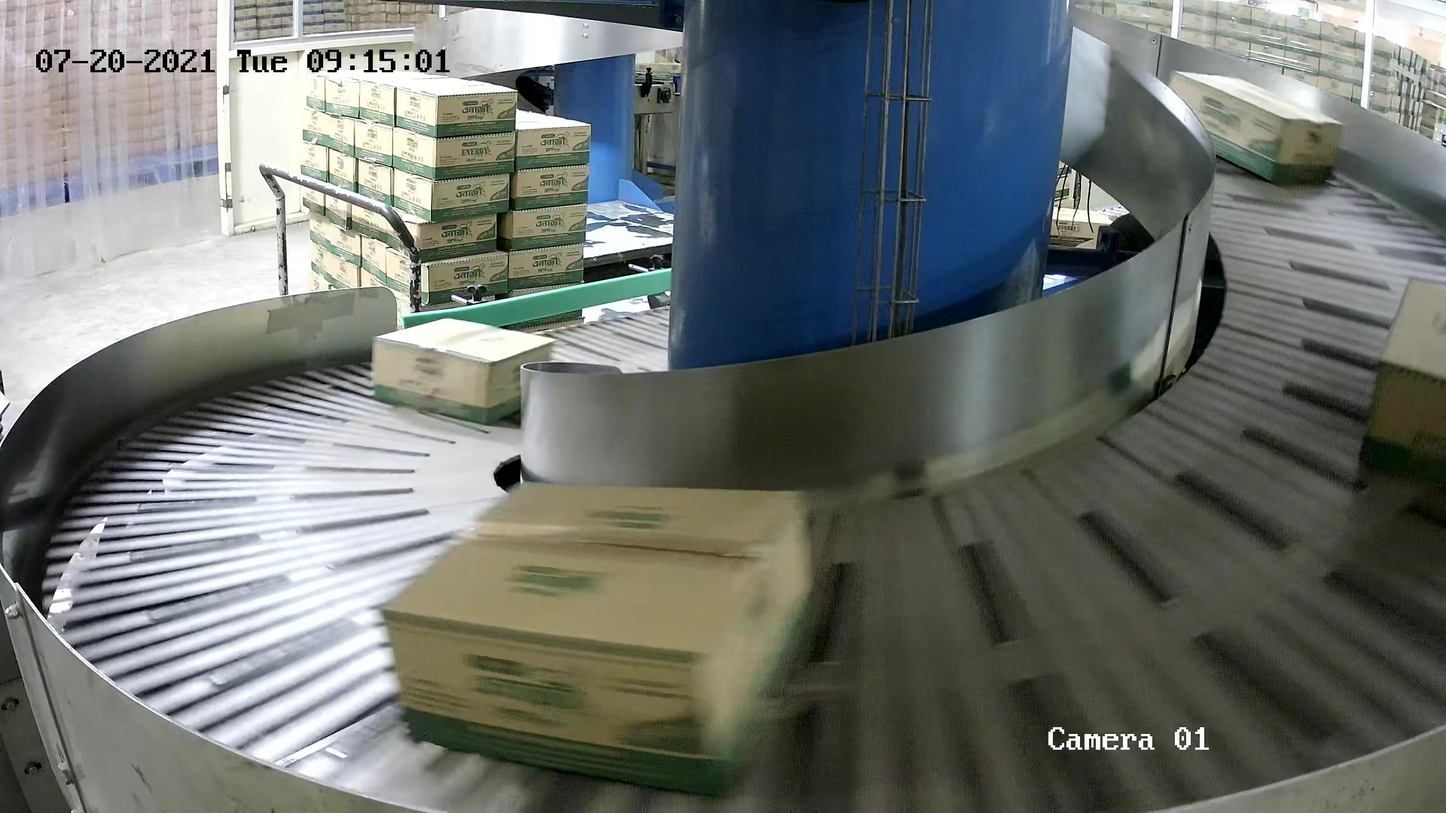Box: (376, 480, 826, 800), (1166, 70, 1346, 186), (370, 317, 557, 427), (1359, 272, 1446, 494)
